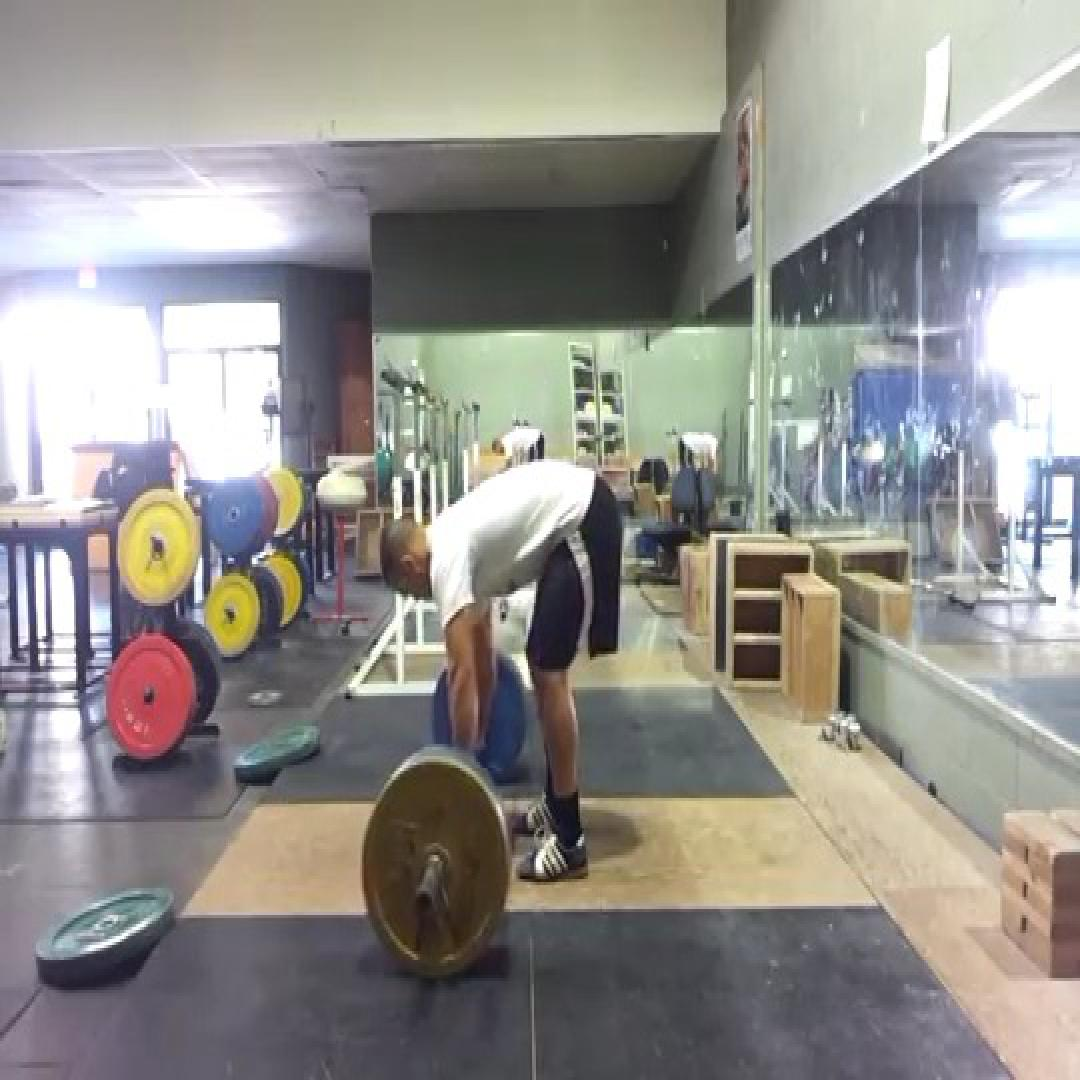Bar: (412, 885, 434, 918)
Barbell: (360, 762, 510, 978)
